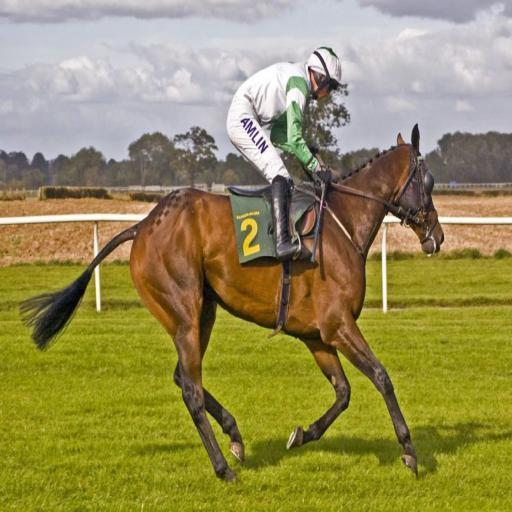horse: (17, 123, 446, 485)
